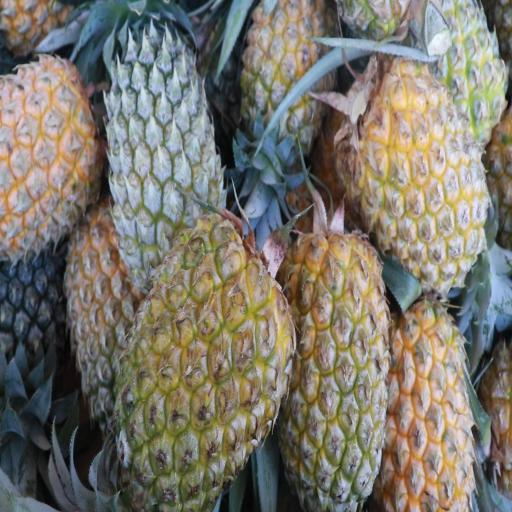------------------------------: (68, 210, 144, 425), (240, 0, 330, 149)
Pineapple - v8 v1: (130, 217, 295, 512), (286, 231, 388, 507), (359, 70, 490, 272), (386, 299, 474, 512), (0, 53, 98, 238)
